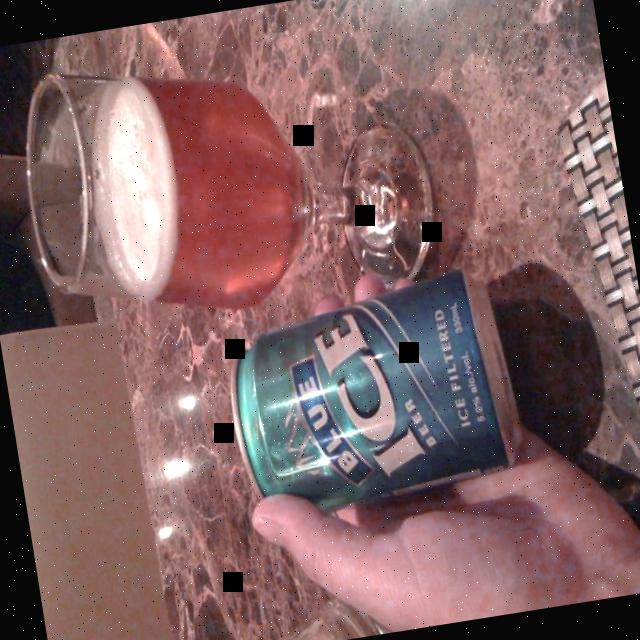can: (212, 258, 539, 534)
